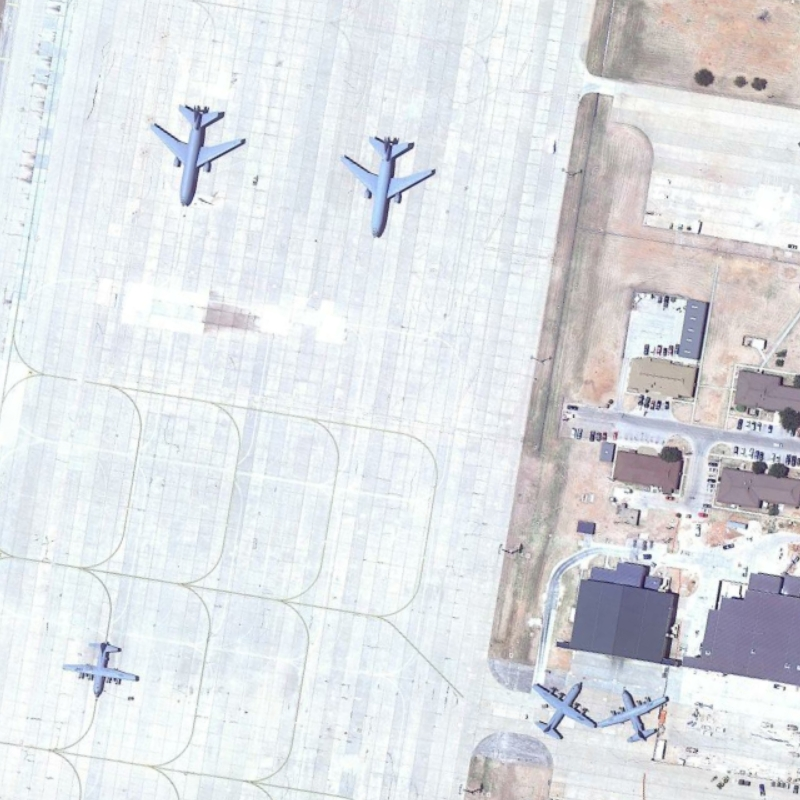A18: (141, 94, 254, 214), (337, 120, 439, 244)
A2: (60, 629, 149, 705), (526, 664, 599, 749), (602, 678, 673, 746)
